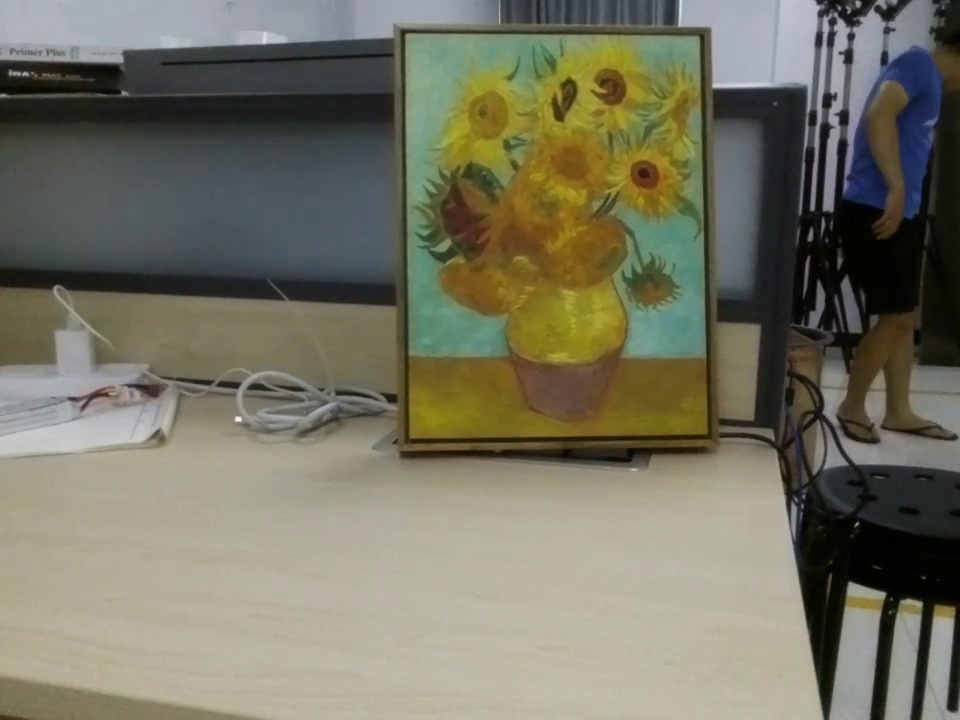painting: (385, 21, 733, 458)
